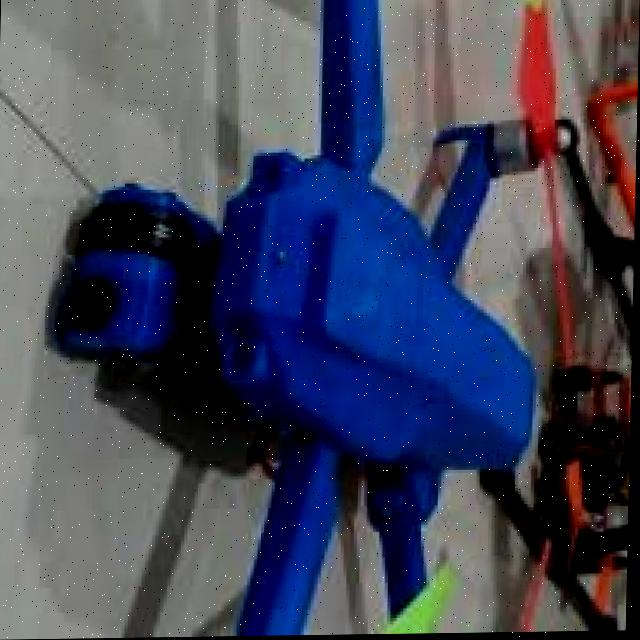drone: (59, 0, 606, 639)
